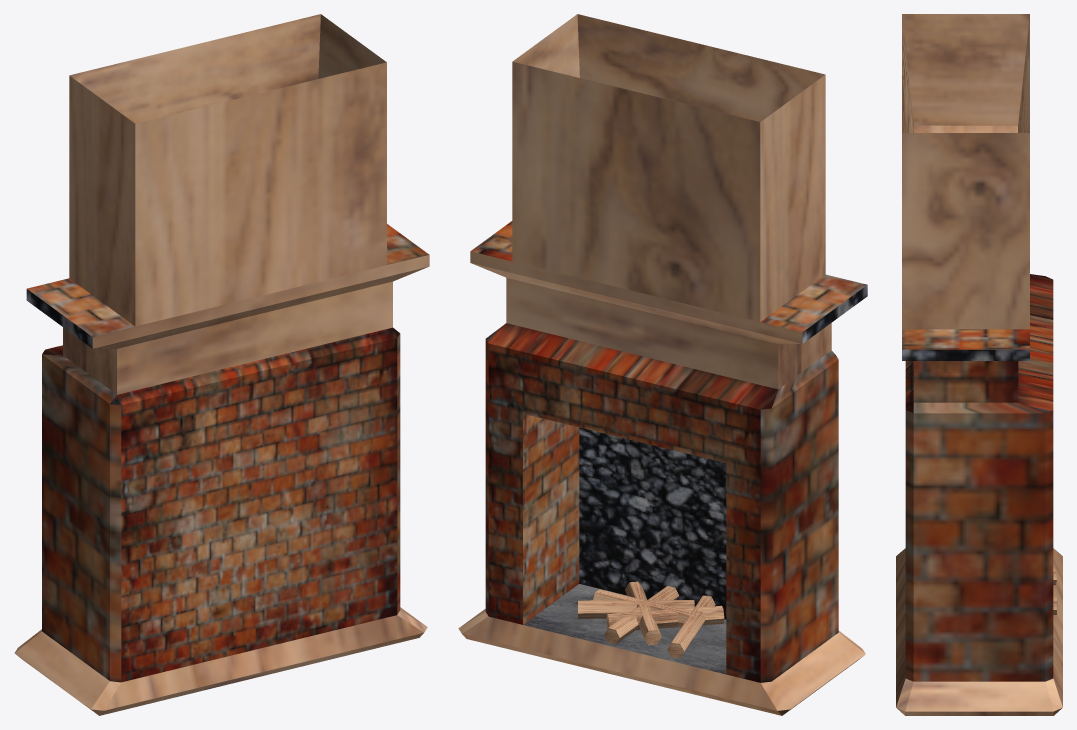
The model's file is lareira.fbx.
3 views of the same model, side by side, from view 1: azimuth 30°, elevation 25°; view 2: azimuth 150°, elevation 25°; view 3: azimuth 270°, elevation 25° (orthographic). The views are drawn at different scales.
Visible parts, largest first — view 1: lareira; view 2: lareira; view 3: lareira.
Part boxes in pixels (box(x1,y1,x2,y2)): lareira: box(14, 14, 429, 715); lareira: box(458, 14, 867, 715); lareira: box(896, 14, 1062, 715).
Size of the model in its own units: 625 by 1037 by 277.
